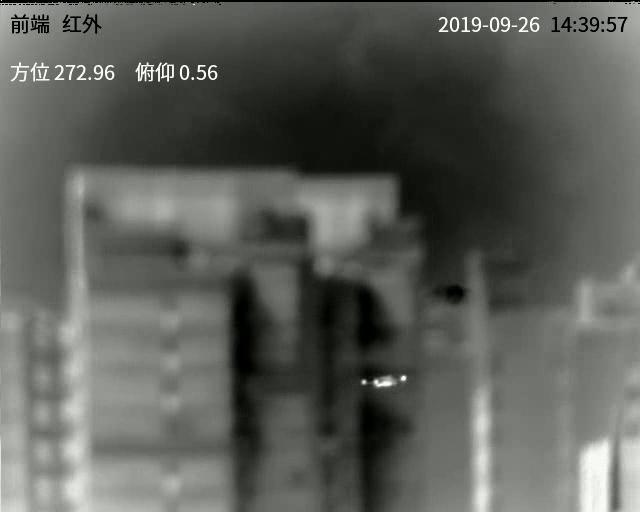DRONE: (358, 373, 408, 390)
